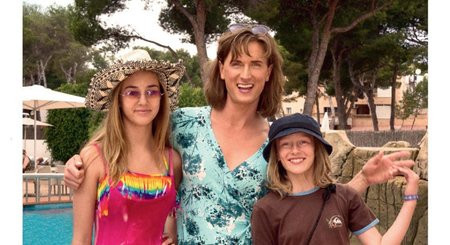without_mask: (217, 43, 275, 106), (111, 69, 169, 130), (274, 130, 318, 183)
